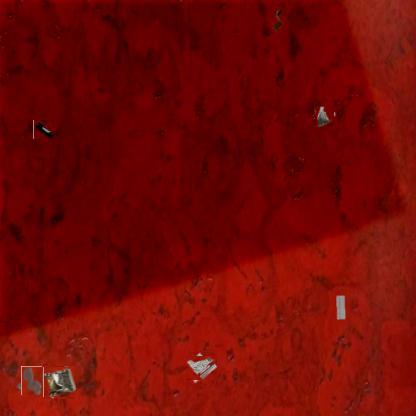dirty: (44, 367, 76, 398), (187, 354, 215, 382), (34, 119, 54, 140), (315, 106, 335, 127), (270, 7, 284, 35), (335, 295, 347, 321)
liquid: (19, 368, 44, 393), (286, 153, 305, 171)
